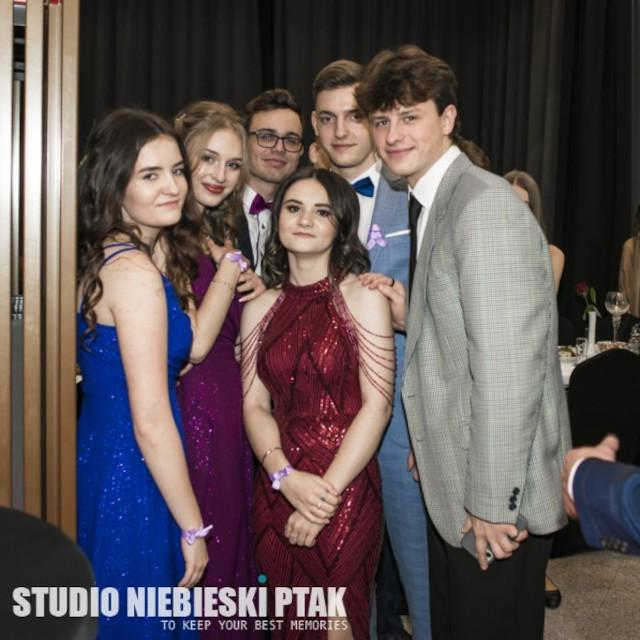kobieta: (238, 170, 396, 634), (74, 109, 184, 640), (174, 102, 241, 546), (501, 167, 571, 296)
mezczyzna: (364, 41, 562, 640), (311, 52, 413, 381), (240, 92, 300, 273)
